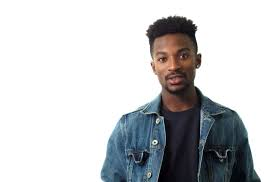person: (146, 16, 202, 95)
